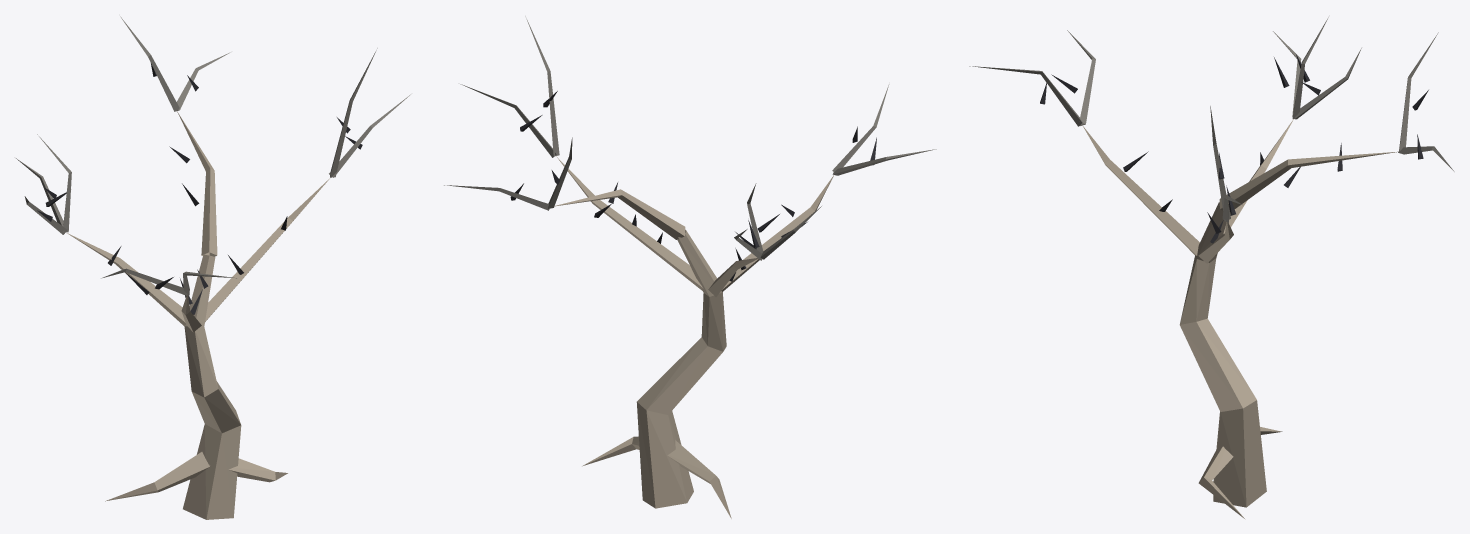
The model's file is Circle7Piece_Tree.obj.
3 views of the same model, side by side, from view 1: azimuth 30°, elevation 25°; view 2: azimuth 150°, elevation 25°; view 3: azimuth 270°, elevation 25° (orthographic). The views are drawn at different scales.
Visible parts, largest first — view 1: Circle7Piece_Tree; view 2: Circle7Piece_Tree; view 3: Circle7Piece_Tree.
Part boxes in pixels (x1,y1,x2,y2): Circle7Piece_Tree: (16, 16, 410, 519); Circle7Piece_Tree: (444, 16, 936, 518); Circle7Piece_Tree: (969, 17, 1454, 519).
Bounding box in the file's own units: 5.7 × 6.03 × 5.61.
1 material, 1 textured.
